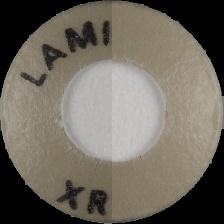0173-0755: (0, 0, 224, 224)
